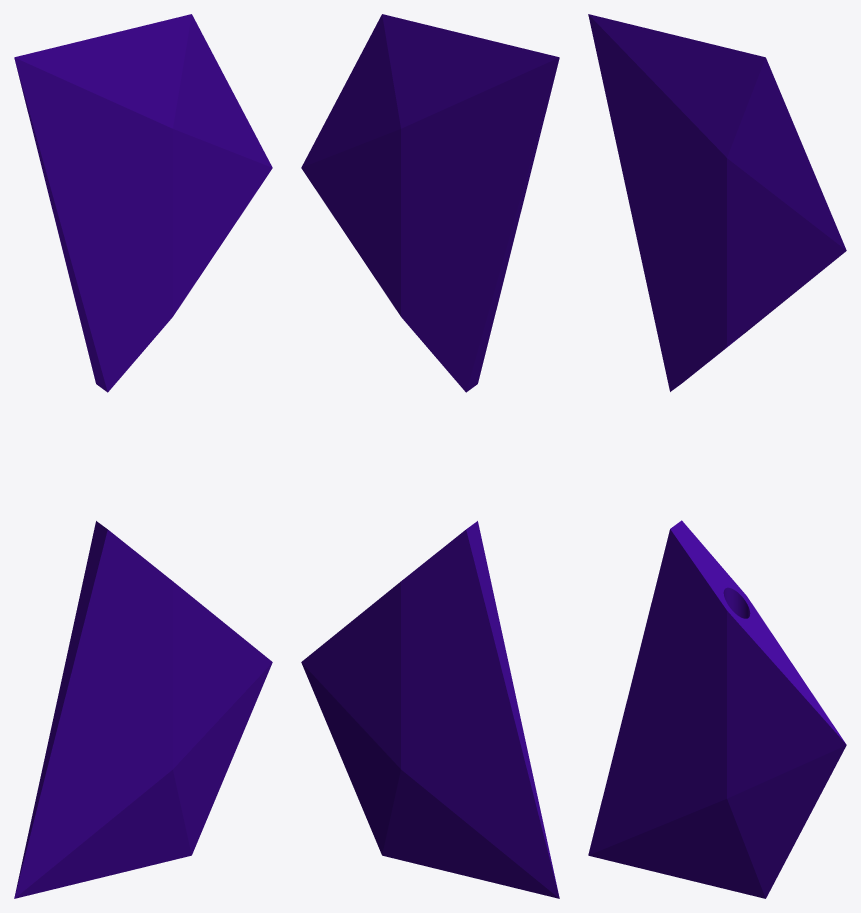
The model's file is fin_pair.dae.
The picture shows the model from 3 angles, left to right: view 1: azimuth 30°, elevation 25°; view 2: azimuth 150°, elevation 25°; view 3: azimuth 330°, elevation 25°; orthographic projection.
Visible parts, largest first — view 1: fin_pair; view 2: fin_pair; view 3: fin_pair.
Part boxes in pixels (box(x1,y1,x2,y2)): fin_pair: box(14, 14, 272, 898); fin_pair: box(301, 14, 559, 898); fin_pair: box(588, 14, 846, 898).
Size of the model in its own units: 0.2253 by 0.03 by 0.7006.
